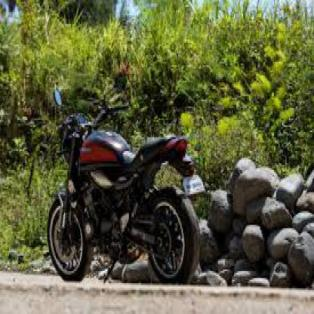Motocicleta: (43, 82, 205, 286)
